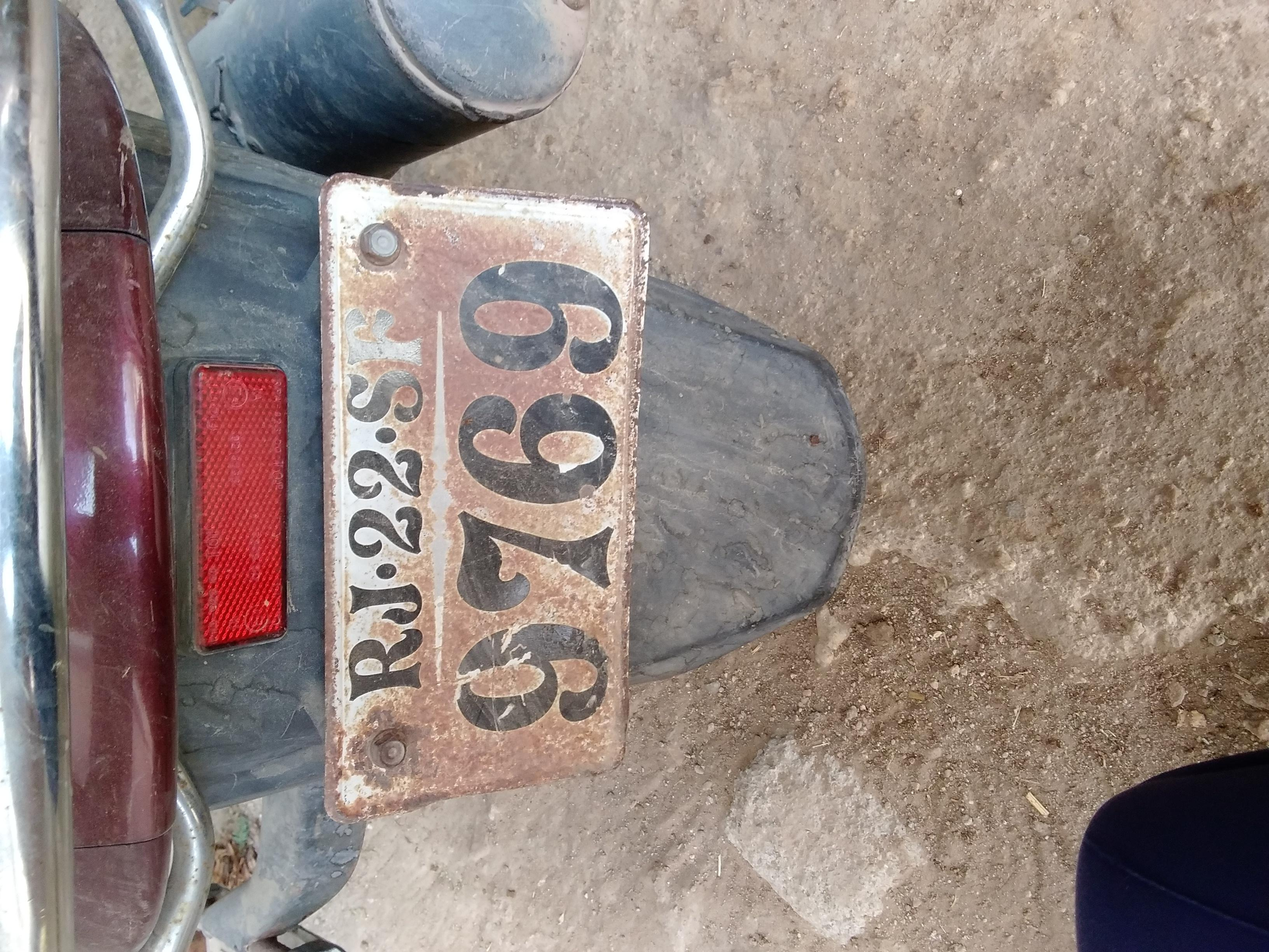number_platerotation: (169, 235, 1041, 491)
